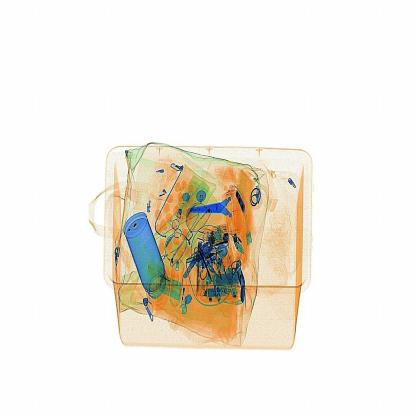gun: (183, 182, 259, 240)
